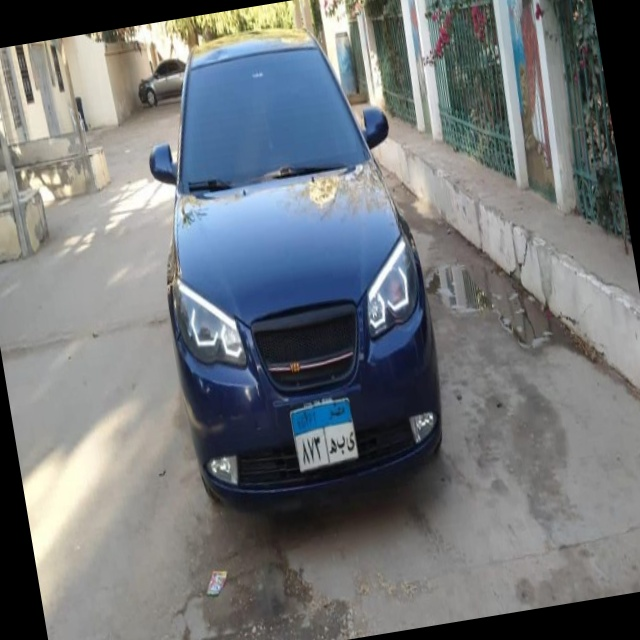License Plate: (286, 393, 362, 475)
